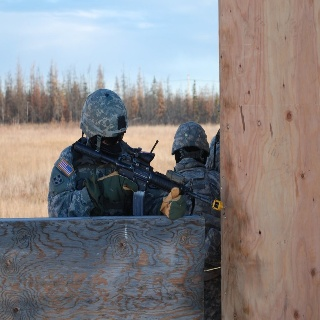rifle: (71, 138, 223, 221)
